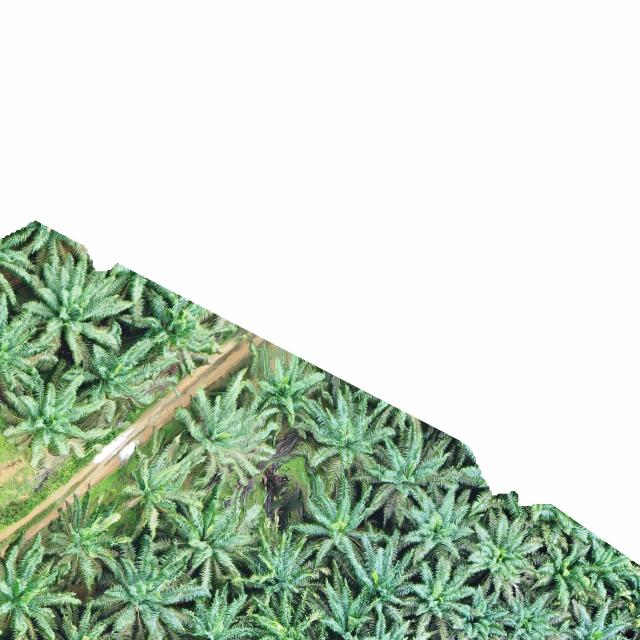Tree: (80, 532, 218, 640), (287, 475, 385, 576), (149, 496, 254, 590), (40, 491, 136, 589), (0, 537, 87, 640), (230, 526, 324, 608), (396, 482, 484, 568), (466, 507, 547, 594), (398, 553, 477, 640), (0, 291, 60, 401), (344, 534, 414, 628), (311, 555, 387, 640), (236, 587, 324, 640), (174, 583, 253, 640), (531, 540, 594, 608), (440, 585, 515, 640), (499, 589, 571, 640), (560, 595, 638, 640)
